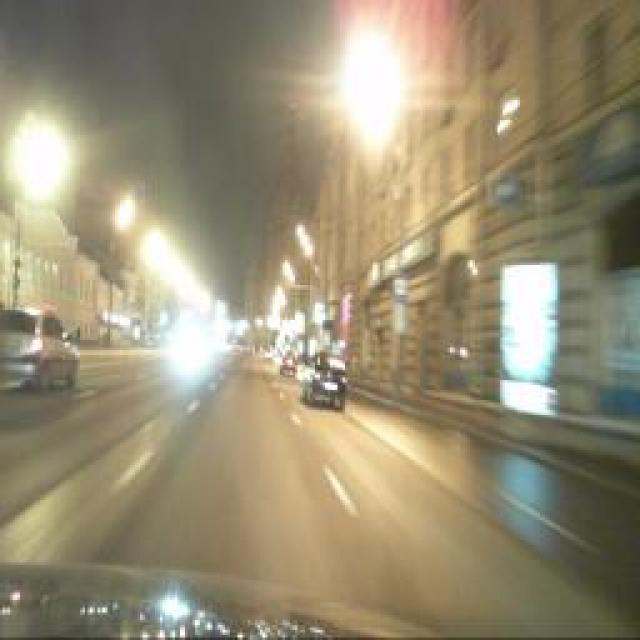sign: (136, 184, 149, 204)
